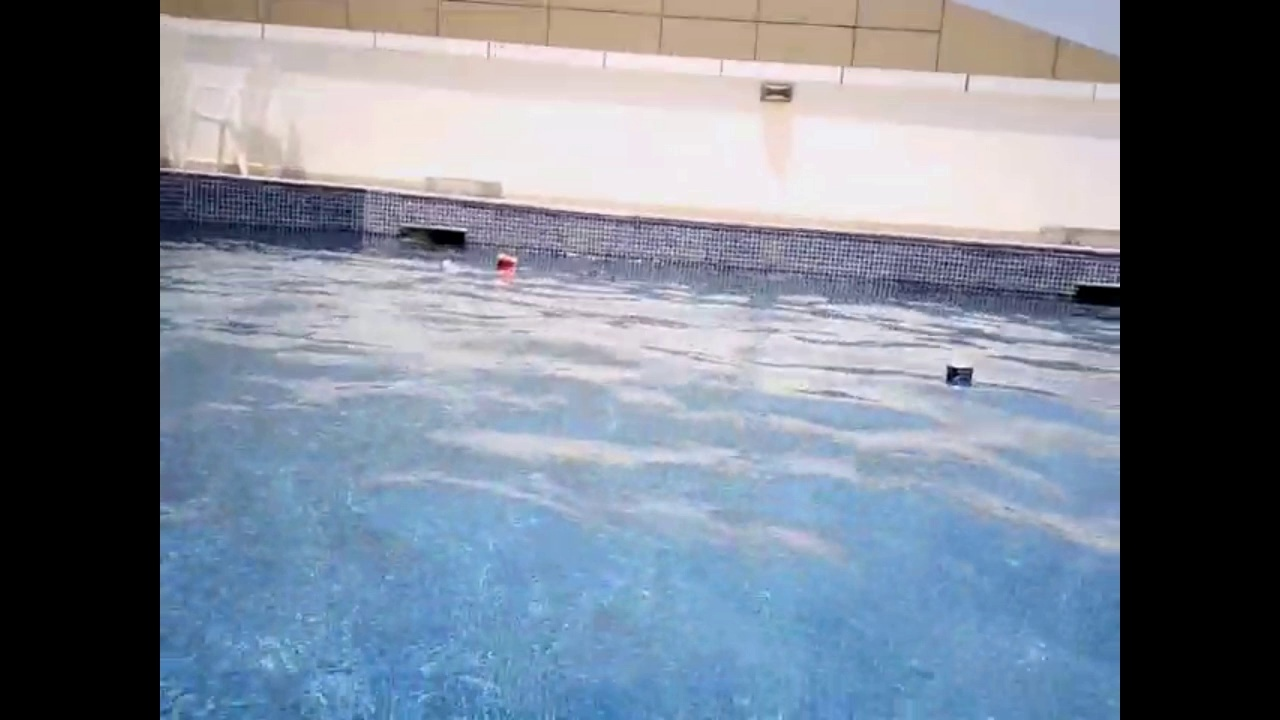debris: (938, 352, 980, 398), (490, 250, 525, 273), (438, 255, 463, 277)
